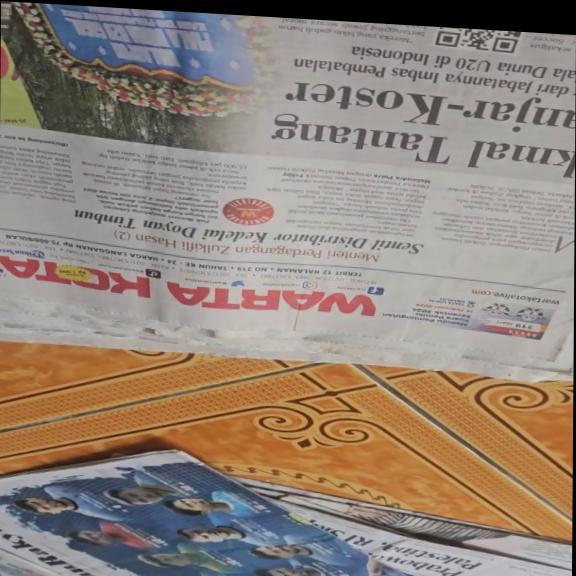Kertas: (5, 3, 570, 374), (1, 437, 385, 576), (260, 484, 571, 576)
